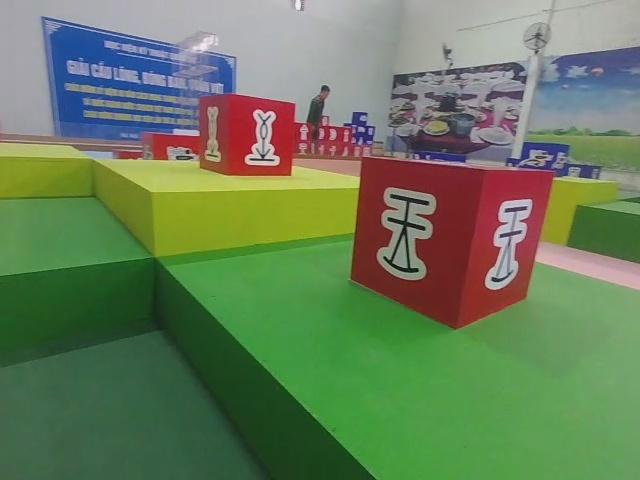R2 Real: (349, 154, 557, 330), (198, 92, 298, 180)
